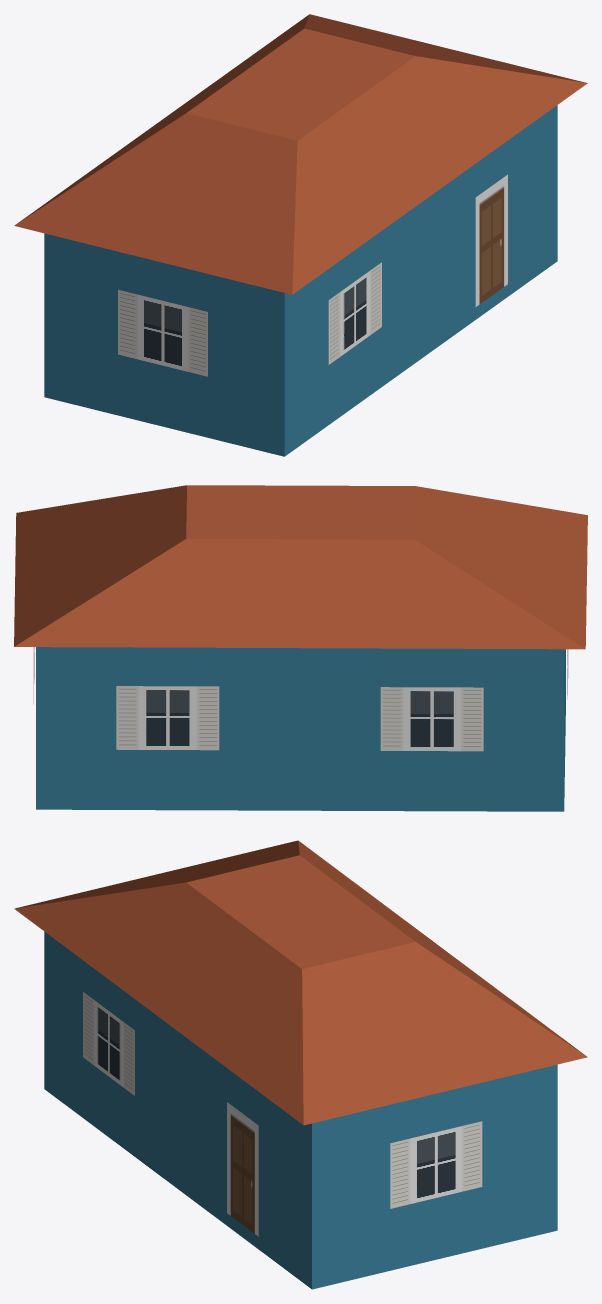
File: msb_oranjestad_m15_6.glb
3 renders of one model, top to bottom at view 1: azimuth 30°, elevation 25°; view 2: azimuth 150°, elevation 25°; view 3: azimuth 270°, elevation 25°, orthographic. The views are drawn at different scales.
Visible parts, largest first — view 1: msb_oranjestad_m15_6_lod0; view 2: msb_oranjestad_m15_6_lod0; view 3: msb_oranjestad_m15_6_lod0.
Part boxes in pixels (x1,y1,x2,y2): msb_oranjestad_m15_6_lod0: [14, 14, 587, 456]; msb_oranjestad_m15_6_lod0: [14, 485, 587, 811]; msb_oranjestad_m15_6_lod0: [14, 840, 587, 1289].
Size of what is drawn, in the model's own units: 12.09 by 4.9 by 10.29.
2 materials, 1 textured.
